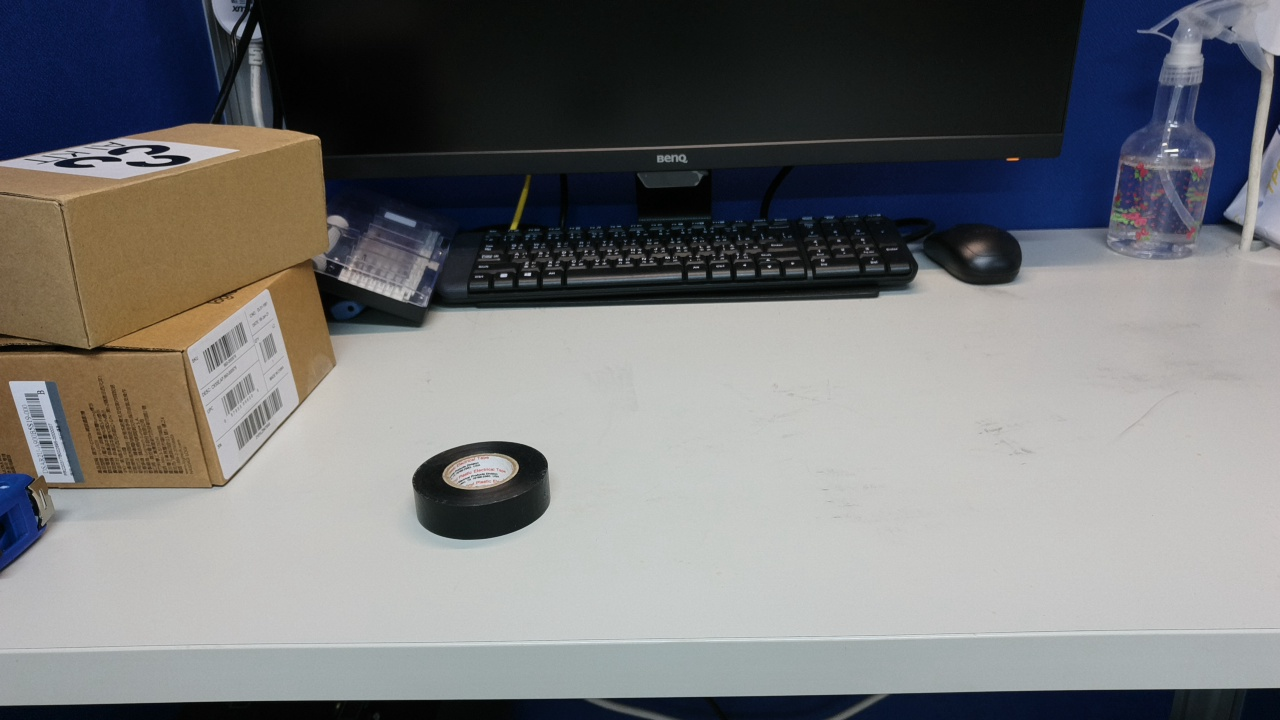columnar: (508, 169, 715, 511)
